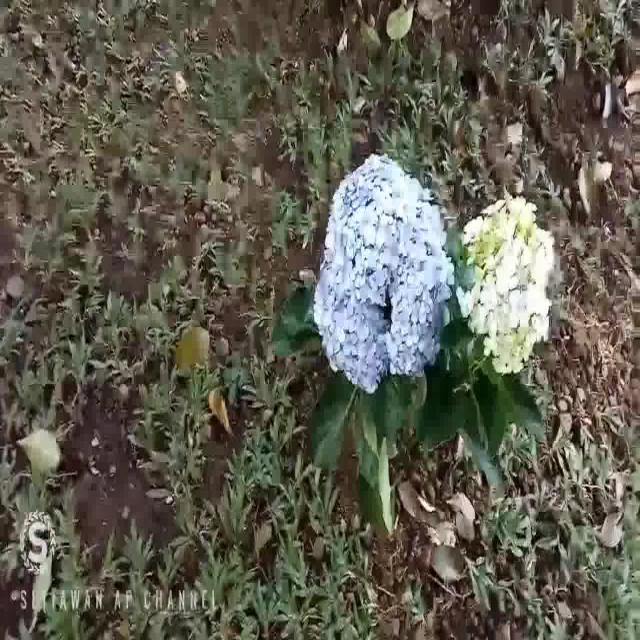Flower: (313, 155, 453, 393), (461, 192, 558, 380)
